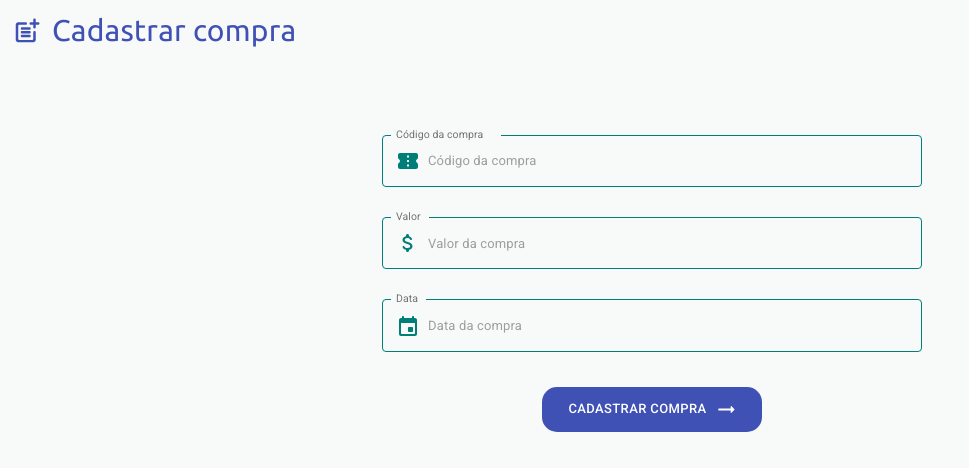
Test case: RegisterPurchase Component › should show success animation when register new purchase
The width and height of the screenshot is (969, 468).
In the field with placeholder "Código da compra": (675, 161) [428, 134, 922, 187], type "40903912880"
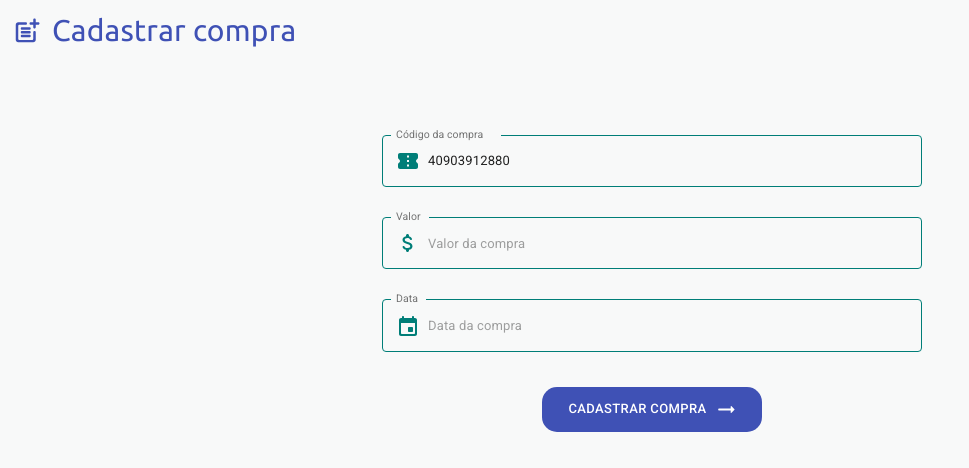
In the field with placeholder "Valor da compra": (675, 243) [428, 217, 922, 269], type "132.3"
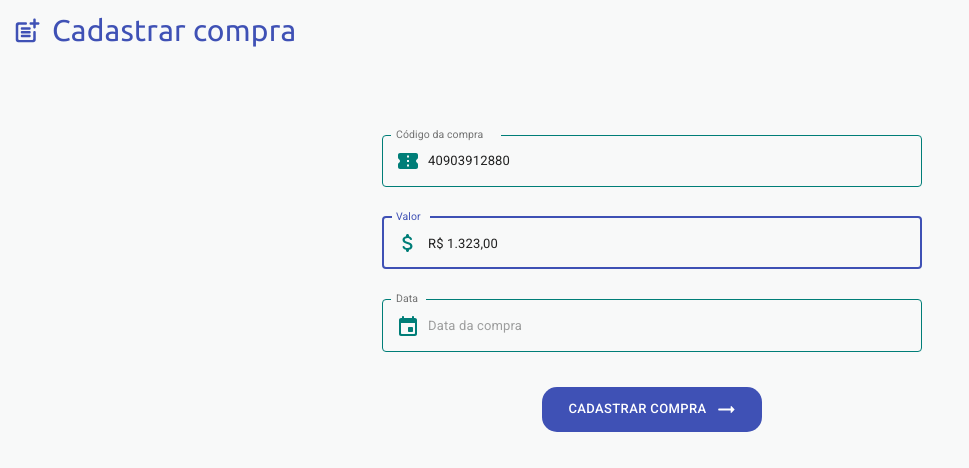
In the field with placeholder "Data da compra": (675, 326) [428, 299, 922, 352], type "26051992"
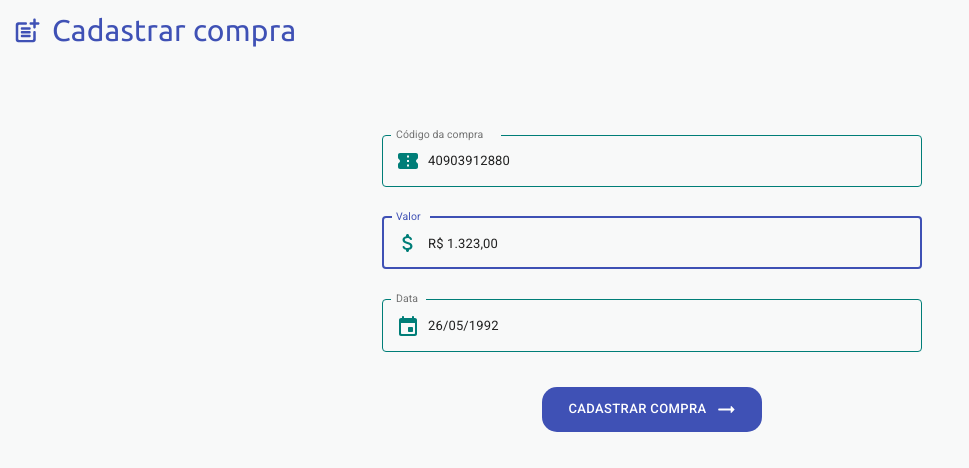
Submit the form with test id "form", box [352, 120, 952, 452]
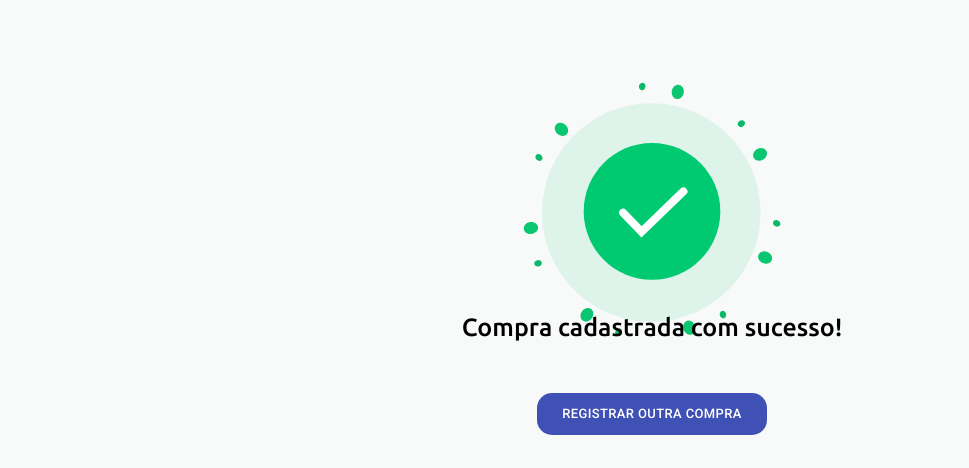
Expected: the element with test id "success" is shown, [452, 12, 852, 435]
